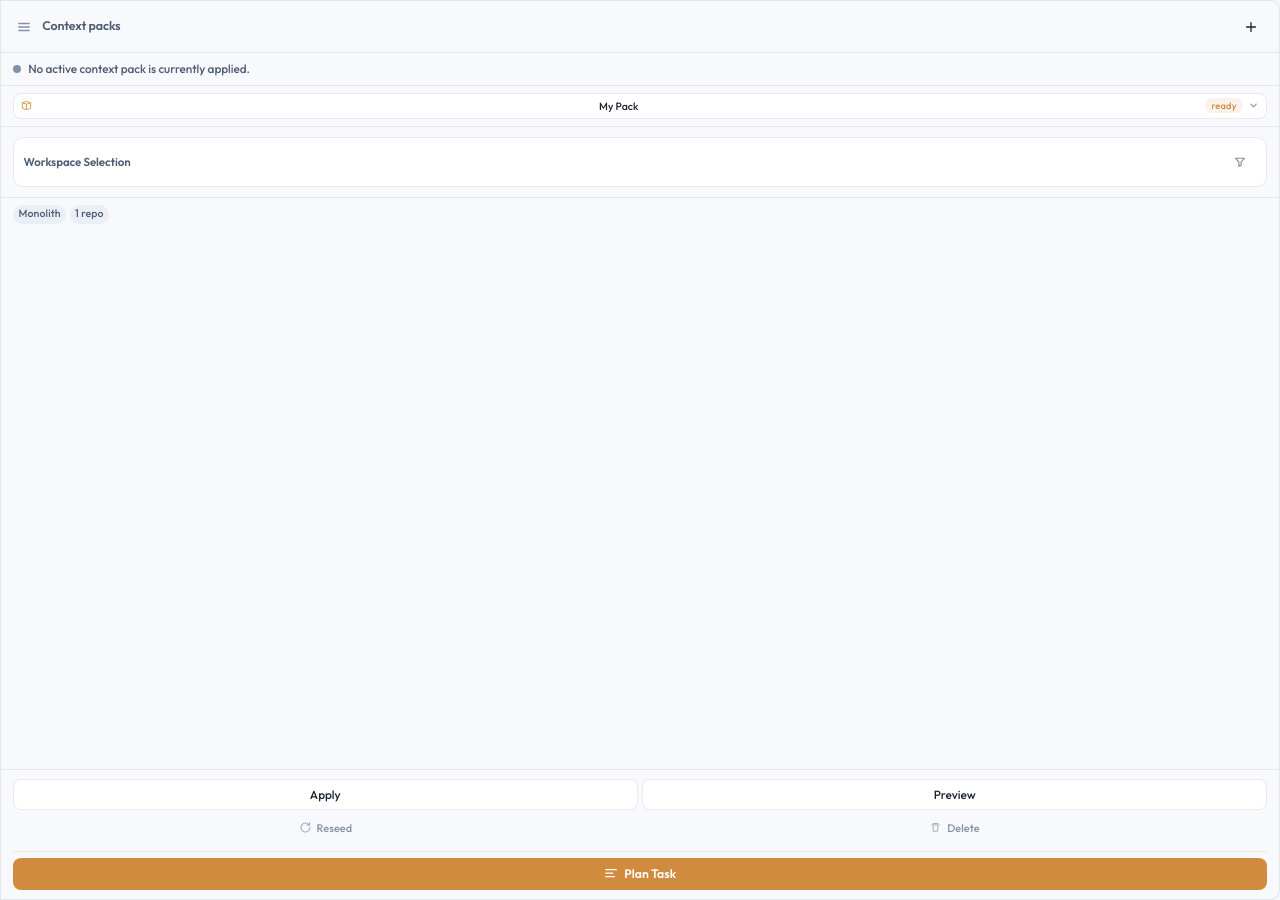
Test: ContextPackSidebarExpanded › closes the delete modal after a successful delete
Click the button with aria-label "Delete context pack".
click(954, 828)  # box [642,815,1267,841]
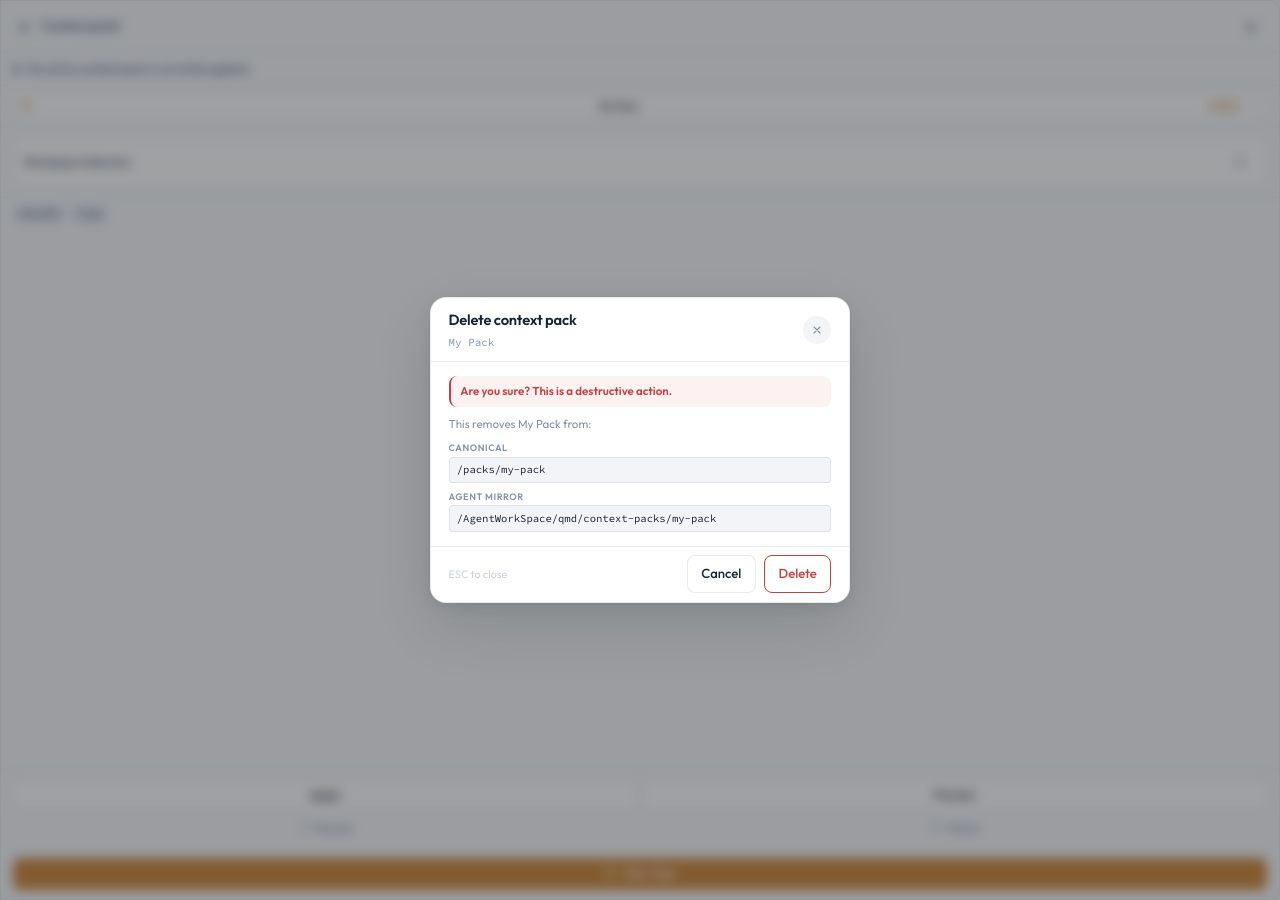
Click the button "Delete".
click(798, 574)  # box [764,556,831,593]
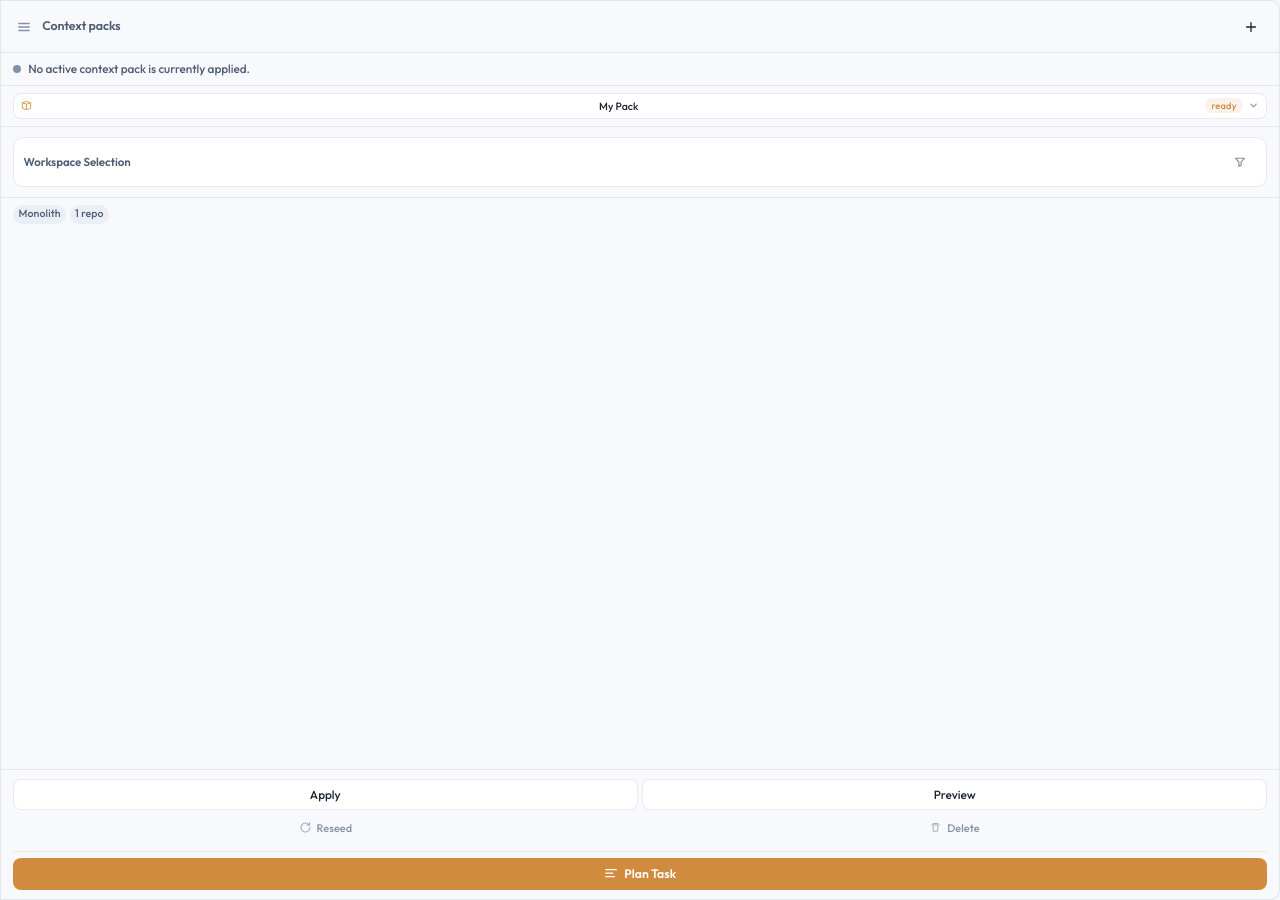
Now the heading "Delete context pack" is gone
